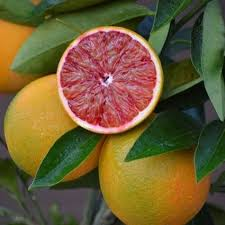orange: (94, 107, 211, 224), (3, 74, 112, 184)
